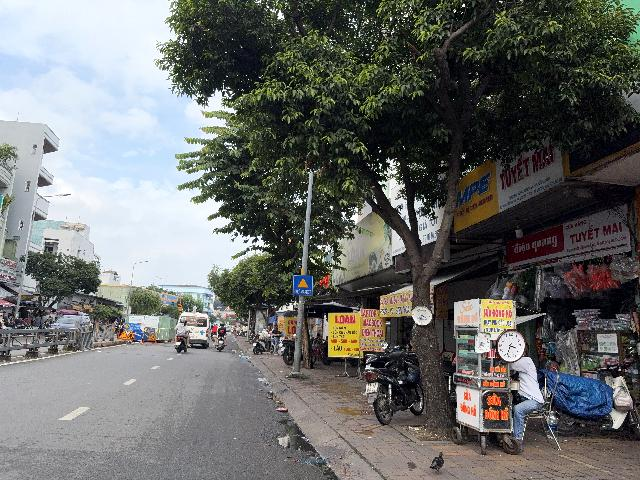khu-vuc-cho-phia-truoc: (293, 275, 313, 295)
